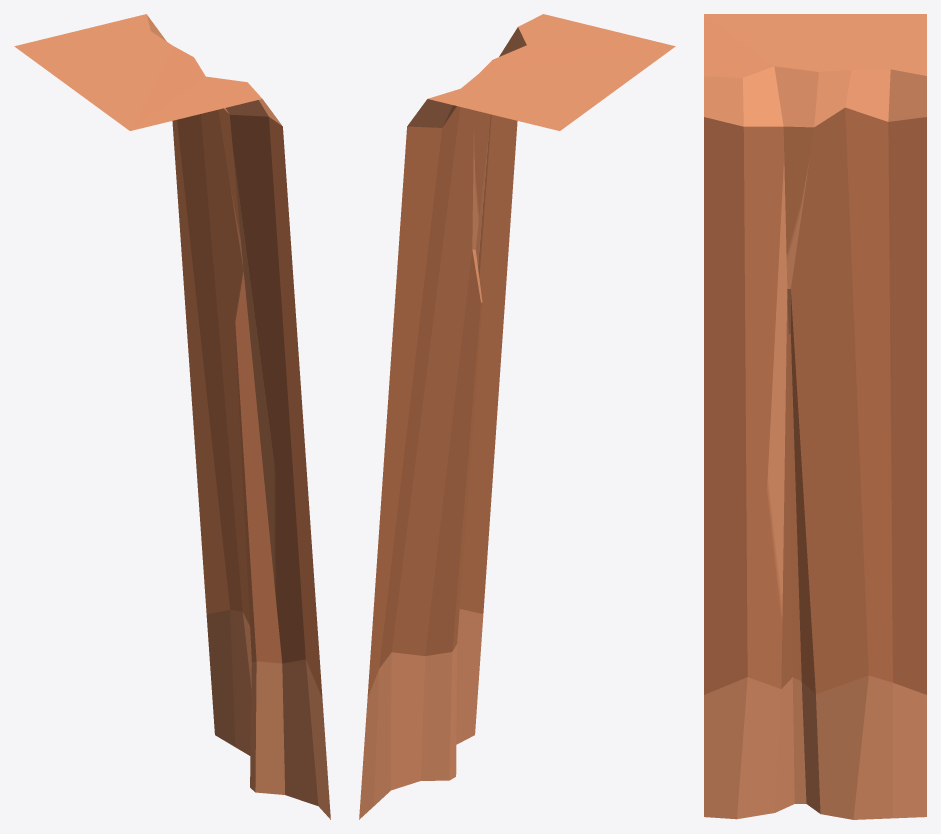
File: Straight_Cliff_1_Collider 1.fbx
The picture shows the model from 3 angles, left to right: view 1: azimuth 30°, elevation 25°; view 2: azimuth 150°, elevation 25°; view 3: azimuth 270°, elevation 25°; orthographic projection. The views are drawn at different scales.
Visible parts, largest first — view 1: Straight_Cliff_1_Collider; view 2: Straight_Cliff_1_Collider; view 3: Straight_Cliff_1_Collider.
Part boxes in pixels (left/top/right/bottom): Straight_Cliff_1_Collider: left=14, top=14, right=330, bottom=819; Straight_Cliff_1_Collider: left=359, top=14, right=675, bottom=819; Straight_Cliff_1_Collider: left=704, top=14, right=926, bottom=819.
Bounding box in the file's own units: 2.06 × 7.03 × 2.
